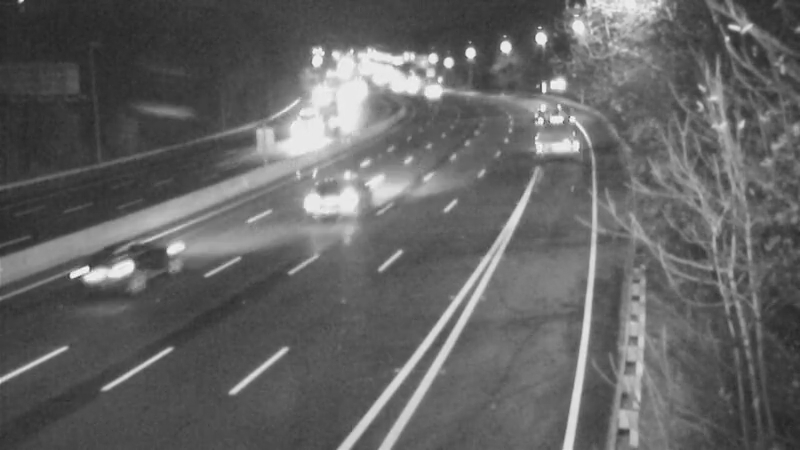vehicle: (300, 159, 380, 239), (60, 233, 140, 313), (524, 101, 574, 151), (273, 108, 323, 158)
